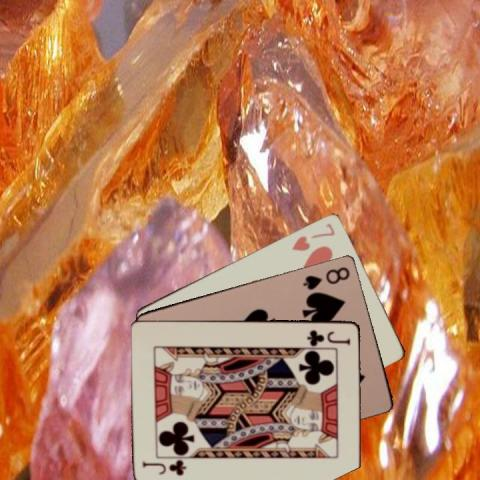7h: (288, 219, 336, 252)
8s: (300, 264, 351, 292)
Jc: (140, 456, 188, 476), (304, 326, 351, 344)
